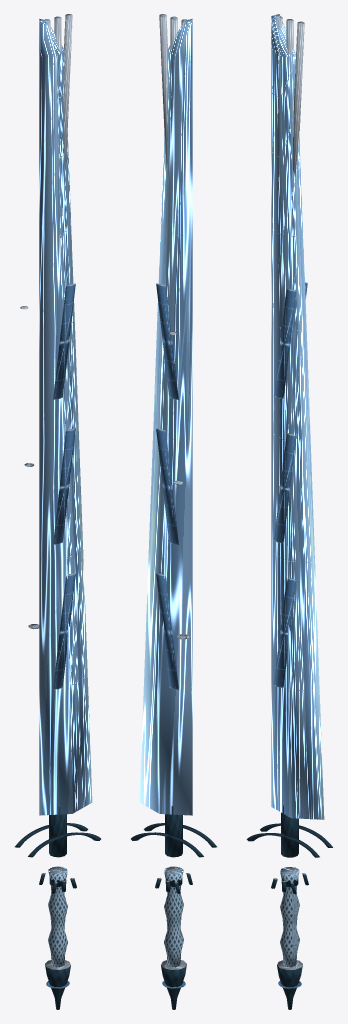
Rendered from sword_10_permafrost_prism.glb.
The picture shows the model from 3 angles, left to right: view 1: azimuth 30°, elevation 25°; view 2: azimuth 150°, elevation 25°; view 3: azimuth 330°, elevation 25°; orthographic projection.
Parts seen in each view (by area): view 1: Blade_PermafrostPrism, Facet_MirrorShards, Grip_FrostWrap, Prongs_IcicleSplit, Guard_FrostCrown, Pommel_GlacierOrb, Core_FrozenCore; view 2: Blade_PermafrostPrism, Facet_MirrorShards, Grip_FrostWrap, Prongs_IcicleSplit, Guard_FrostCrown, Pommel_GlacierOrb, Core_FrozenCore; view 3: Blade_PermafrostPrism, Facet_MirrorShards, Grip_FrostWrap, Prongs_IcicleSplit, Guard_FrostCrown, Pommel_GlacierOrb, Core_FrozenCore.
Boxes of the visible parts, bbox=[...] form: Blade_PermafrostPrism: bbox=[39, 18, 92, 815]; Facet_MirrorShards: bbox=[53, 283, 75, 689]; Grip_FrostWrap: bbox=[48, 866, 67, 967]; Prongs_IcicleSplit: bbox=[44, 14, 72, 171]; Guard_FrostCrown: bbox=[15, 823, 100, 893]; Pommel_GlacierOrb: bbox=[45, 960, 70, 1009]; Core_FrozenCore: bbox=[49, 806, 66, 857]; Blade_PermafrostPrism: bbox=[139, 18, 192, 815]; Facet_MirrorShards: bbox=[156, 283, 178, 689]; Grip_FrostWrap: bbox=[164, 866, 183, 967]; Prongs_IcicleSplit: bbox=[159, 14, 187, 169]; Guard_FrostCrown: bbox=[131, 823, 216, 893]; Pommel_GlacierOrb: bbox=[161, 960, 186, 1009]; Core_FrozenCore: bbox=[165, 806, 182, 857]; Blade_PermafrostPrism: bbox=[271, 14, 324, 819]; Facet_MirrorShards: bbox=[274, 282, 307, 687]; Grip_FrostWrap: bbox=[280, 867, 299, 967]; Prongs_IcicleSplit: bbox=[276, 16, 304, 176]; Guard_FrostCrown: bbox=[246, 823, 332, 894]; Pommel_GlacierOrb: bbox=[277, 960, 302, 1009]; Core_FrozenCore: bbox=[281, 805, 298, 857].
Bounding box in the file's own units: 0.2034 × 2.6 × 0.1319.
Materials: 1 (1 with a texture image).
